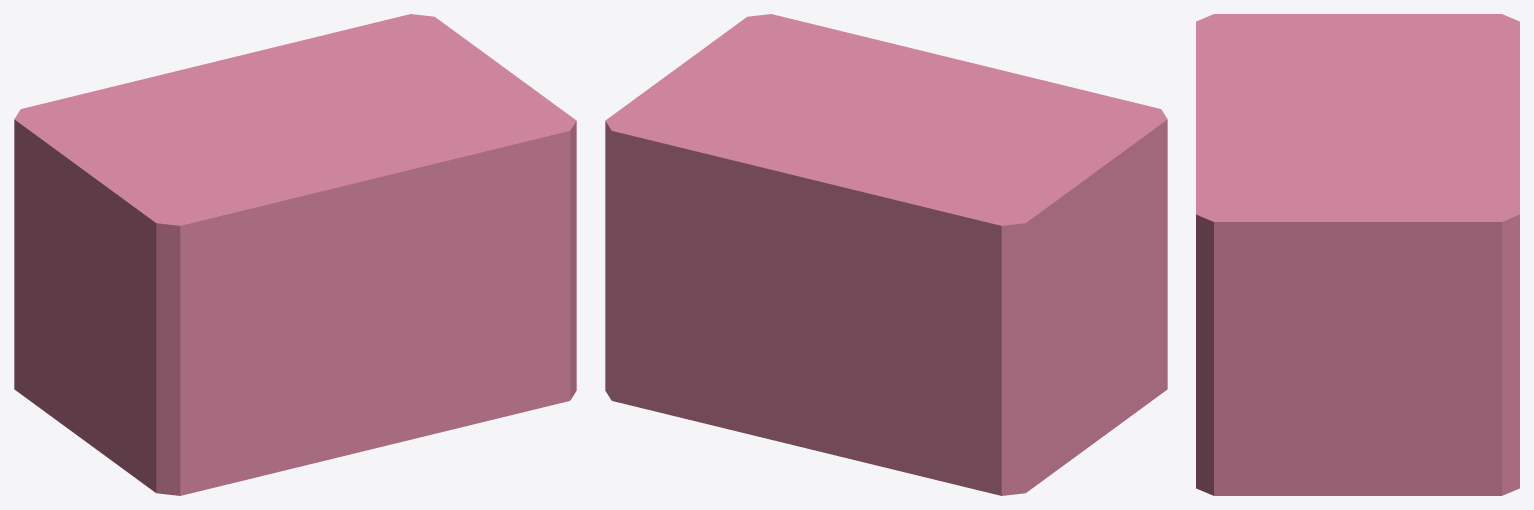
The model's file is puzzlecores.fbx.
The picture shows the model from 3 angles, left to right: view 1: azimuth 30°, elevation 25°; view 2: azimuth 150°, elevation 25°; view 3: azimuth 270°, elevation 25°; orthographic projection.
Visible parts, largest first — view 1: Cube.132; view 2: Cube.132; view 3: Cube.132.
Part boxes in pixels (box(x1,y1,x2,y2)): Cube.132: box(14, 14, 576, 495); Cube.132: box(605, 14, 1167, 495); Cube.132: box(1196, 14, 1519, 495).
Size of the model in its own units: 403 by 247 by 265.
